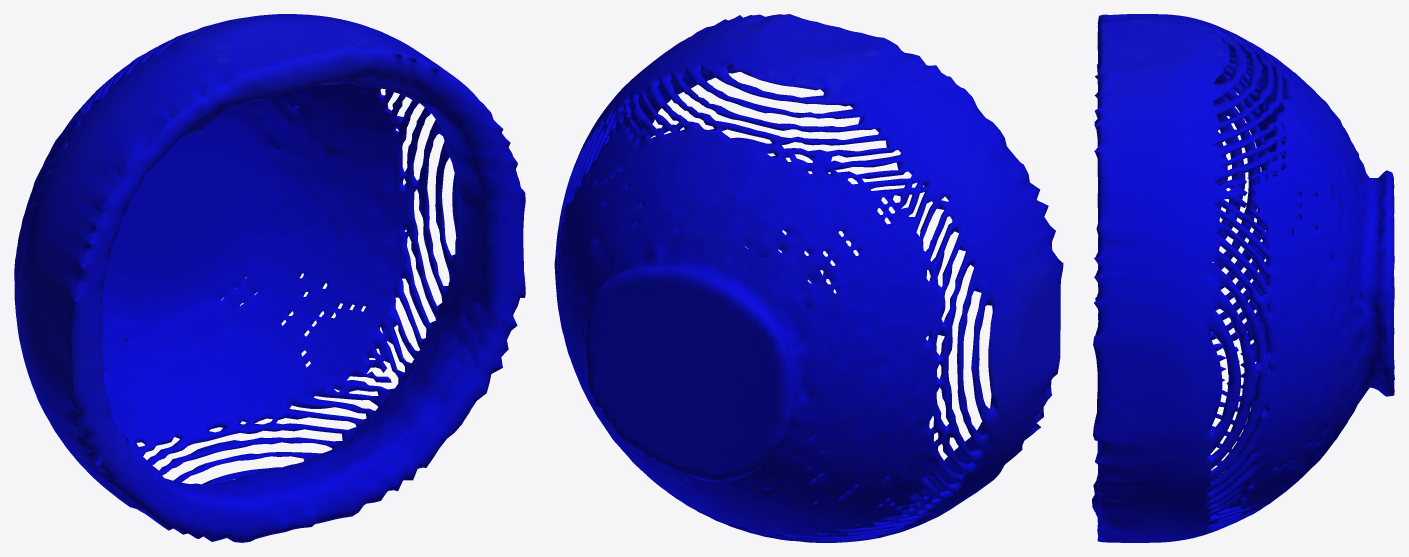
File: a bowl.obj
3 views of the same model, side by side, from view 1: azimuth 30°, elevation 25°; view 2: azimuth 150°, elevation 25°; view 3: azimuth 270°, elevation 25° (orthographic).
Bounding box in the file's own units: 0.999 × 0.9986 × 0.5883.
